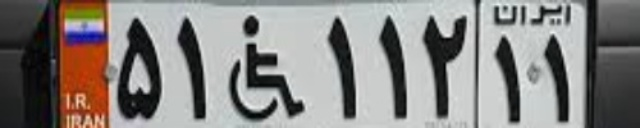1: (173, 16, 209, 119), (375, 15, 408, 117), (326, 16, 356, 118), (491, 34, 521, 122), (542, 33, 568, 121)
2: (421, 13, 466, 119)
5: (113, 16, 163, 119)
malol: (224, 13, 308, 120)
